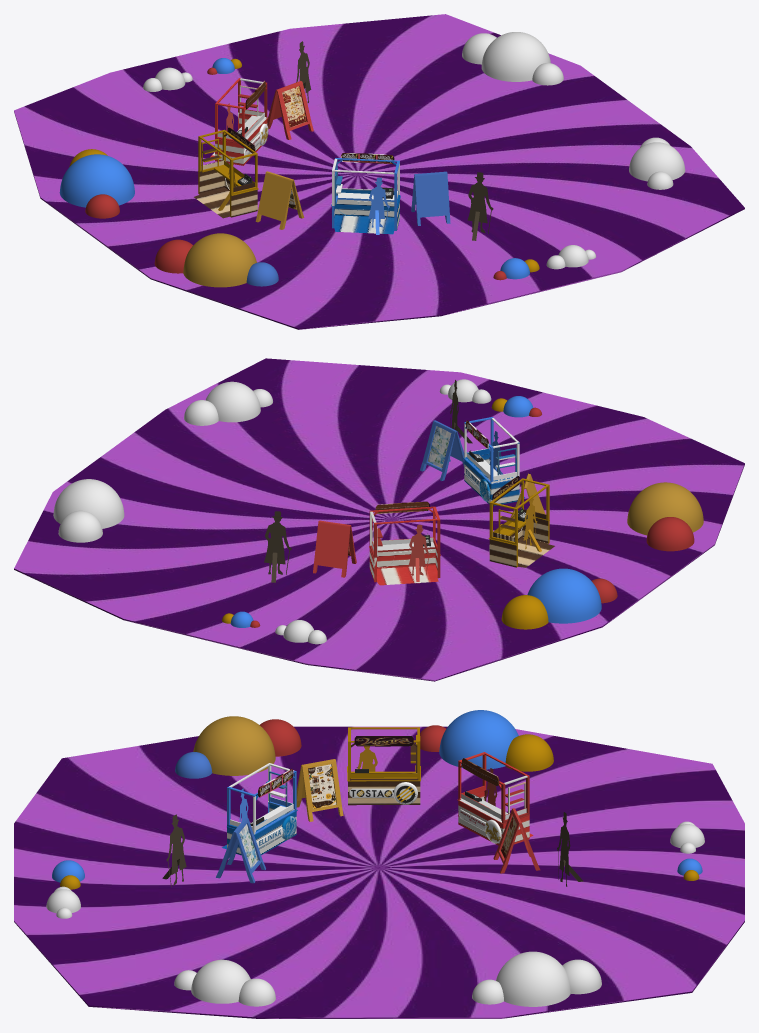
File: PUESTO_WONKA_3D_FINAL_.glb
The picture shows the model from 3 angles, top to bottom: view 1: azimuth 30°, elevation 25°; view 2: azimuth 150°, elevation 25°; view 3: azimuth 270°, elevation 25°; orthographic projection. The views are drawn at different scales.
Parts seen in each view (by area): view 1: PISO, PUESTO.001, PUESTO, Sphere, Sphere.003, Sphere.008, PUESTO.002, Cube, Cube.001, Sphere.011, Cube.002, Plane.002 (+6 smaller); view 2: PISO, PUESTO.002, PUESTO.001, Sphere.003, Sphere, PUESTO, Sphere.008, Cube.002, Sphere.011, Cube, Sphere.001, Sphere.004 (+5 smaller); view 3: PISO, Sphere, Sphere.003, Sphere.008, PUESTO.002, PUESTO.001, PUESTO, Cube.001, Sphere.011, Sphere.004, Cube, Sphere.009 (+12 smaller).
Part boxes in pixels (x1,y1,x2,y2): PISO: [14, 14, 744, 329]; PUESTO.001: [194, 129, 258, 218]; PUESTO: [331, 158, 400, 234]; Sphere: [183, 233, 256, 287]; Sphere.003: [59, 154, 134, 207]; Sphere.008: [481, 32, 550, 81]; PUESTO.002: [210, 78, 268, 165]; Cube: [411, 171, 450, 225]; Cube.001: [255, 171, 304, 229]; Sphere.011: [629, 142, 685, 181]; Cube.002: [267, 81, 313, 139]; Plane.002: [467, 172, 493, 240]; PISO: [14, 358, 744, 681]; PUESTO.002: [369, 506, 440, 585]; PUESTO.001: [488, 478, 554, 567]; Sphere.003: [527, 568, 601, 623]; Sphere: [627, 482, 703, 535]; PUESTO: [463, 417, 524, 505]; Sphere.008: [53, 479, 124, 528]; Cube.002: [313, 520, 356, 577]; Sphere.011: [206, 381, 260, 422]; Cube: [420, 420, 464, 480]; Sphere.001: [646, 517, 694, 551]; Sphere.004: [501, 595, 548, 629]; PISO: [14, 726, 744, 1018]; Sphere: [193, 716, 275, 775]; Sphere.003: [439, 710, 518, 769]; Sphere.008: [496, 951, 570, 1006]; PUESTO.002: [457, 752, 533, 845]; PUESTO.001: [347, 727, 420, 805]; PUESTO: [222, 763, 297, 855]; Cube.001: [296, 759, 343, 821]; Sphere.011: [191, 959, 250, 1003]; Sphere.004: [505, 734, 553, 771]; Cube: [216, 817, 265, 883]; Sphere.009: [562, 959, 601, 994].
Bounding box in the file's own units: 49.68 × 5.7 × 52.73.
Materials: 32 (16 with a texture image).
